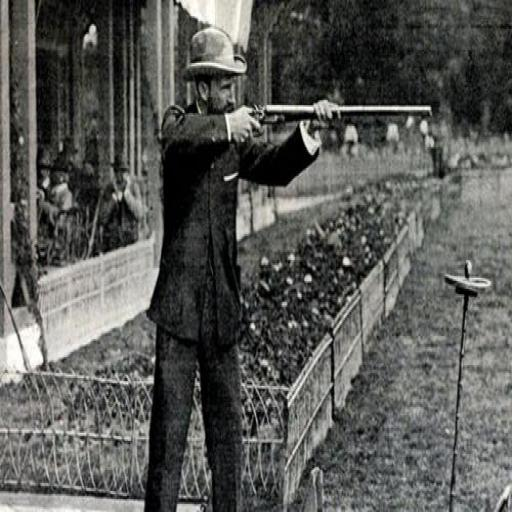shooting: (141, 24, 343, 510)
